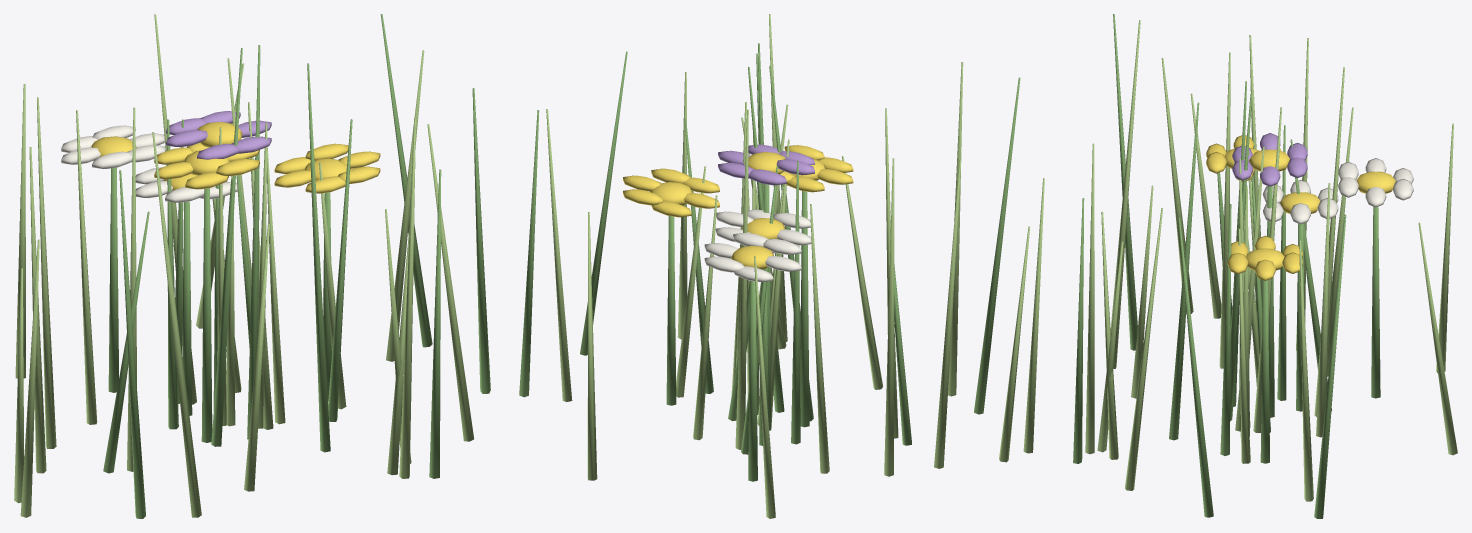
Rendered from grass_or_flower.glb.
The picture shows the model from 3 angles, left to right: view 1: azimuth 30°, elevation 25°; view 2: azimuth 150°, elevation 25°; view 3: azimuth 270°, elevation 25°; orthographic projection. The views are drawn at different scales.
Visible parts, largest first — view 1: blade_21, blade_8, blade_0, blade_7, blade_23, blade_30, flower_4_stem, blade_14, blade_33, blade_6, blade_11, blade_12 (+34 smaller); view 2: blade_30, blade_23, blade_16, blade_15, blade_10, blade_22, flower_4_stem, blade_20, blade_14, blade_26, blade_9, flower_3_stem (+21 smaller); view 3: blade_21, blade_7, blade_33, blade_15, blade_11, blade_30, blade_8, blade_22, blade_6, blade_27, flower_3_stem, blade_1 (+29 smaller).
Boxes of the visible parts, box(x1,y1,x2,y2) form: blade_21: box(307, 63, 330, 452); blade_8: box(152, 132, 201, 517); blade_0: box(211, 48, 242, 446); blade_7: box(399, 118, 415, 478); blade_23: box(37, 97, 56, 448); blade_30: box(119, 170, 145, 518); flower_4_stem: box(201, 188, 212, 442); blade_14: box(76, 110, 97, 424); blade_33: box(472, 88, 490, 393); blade_6: box(429, 169, 441, 478); blade_11: box(427, 124, 473, 441); blade_12: box(247, 45, 260, 439); blade_30: box(974, 77, 1020, 414); blade_23: box(884, 158, 894, 476); blade_16: box(934, 160, 961, 468); blade_15: box(519, 110, 539, 397); blade_10: box(735, 109, 748, 449); blade_22: box(546, 109, 572, 401); flower_4_stem: box(800, 191, 809, 427); blade_20: box(1023, 178, 1044, 453); blade_14: box(810, 204, 829, 473); blade_26: box(587, 212, 597, 480); blade_9: box(791, 161, 800, 444); flower_3_stem: box(748, 281, 757, 481); blade_21: box(1169, 102, 1199, 440); blade_7: box(1085, 143, 1094, 454); blade_33: box(1178, 218, 1213, 517); blade_15: box(1314, 214, 1346, 518); blade_11: box(1125, 208, 1162, 490); blade_30: box(1113, 14, 1137, 350); blade_8: box(1110, 20, 1140, 368); blade_22: box(1299, 240, 1313, 501); blade_6: box(1073, 198, 1084, 463); blade_27: box(1220, 204, 1231, 455); flower_3_stem: box(1371, 206, 1380, 398); blade_1: box(1316, 183, 1330, 437).
Bounding box in the file's own units: 0.5481 × 0.4149 × 0.4262.
